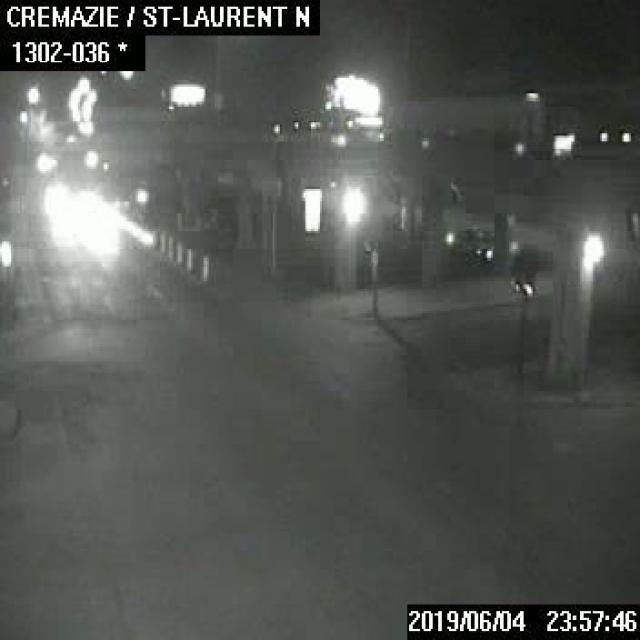construction: (201, 256, 208, 282), (175, 240, 181, 266), (186, 246, 192, 272), (158, 228, 164, 254), (167, 233, 173, 259)
